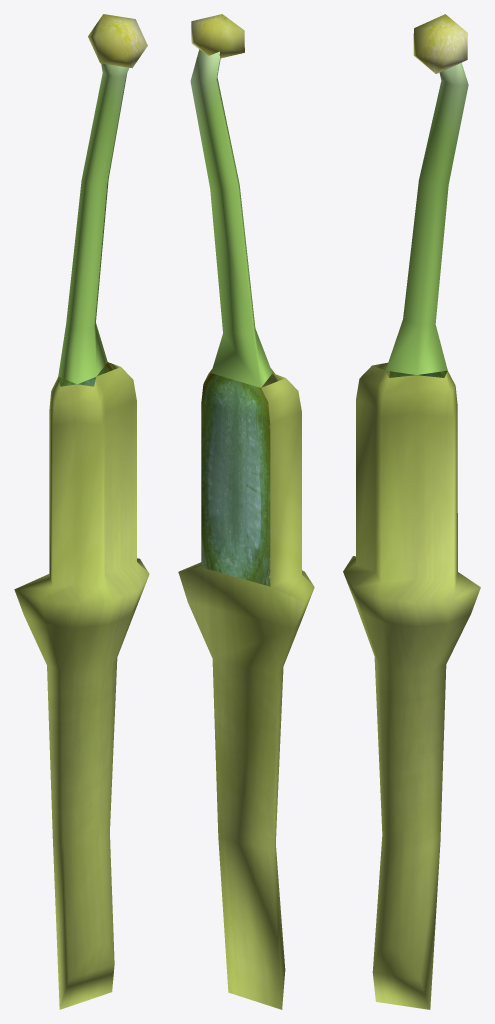
Rendered from Lily_Center_Longitudinal.gltf.
3 renders of one model, left to right at view 1: azimuth 30°, elevation 25°; view 2: azimuth 150°, elevation 25°; view 3: azimuth 330°, elevation 25°, orthographic.
Visible parts, largest first — view 1: OvaryLong; view 2: OvaryLong; view 3: OvaryLong.
Part boxes in pixels (left/top/right/bottom): OvaryLong: left=14, top=14, right=149, bottom=1009; OvaryLong: left=178, top=14, right=314, bottom=1009; OvaryLong: left=343, top=14, right=480, bottom=1009.
Bounding box in the file's own units: 0.5855 × 4.34 × 0.3387.
Materials: 5 (5 with a texture image).
